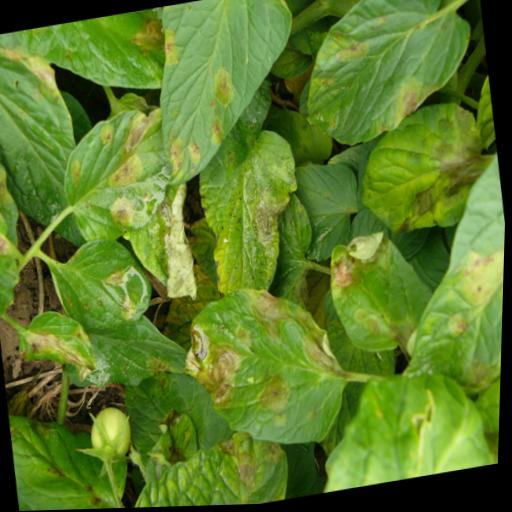Late Blight: (177, 271, 358, 467), (143, 0, 311, 188), (286, 0, 485, 158), (43, 100, 195, 248), (189, 124, 315, 300), (347, 98, 494, 243), (322, 225, 438, 361), (46, 230, 160, 344), (16, 301, 102, 384)
